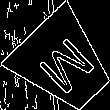M_SE: (30, 30, 98, 98)
